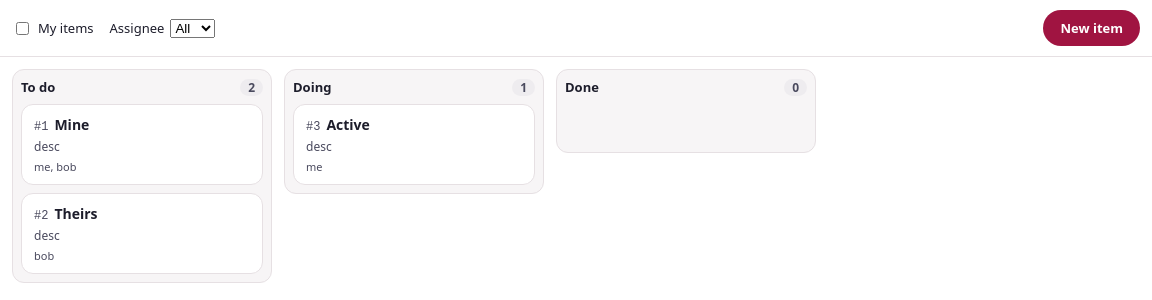
Test case: BoardView › assignee picker lists seen assignees and filters
Select "bob" in the dropdown labelled "Assignee": (193, 28) [170,18,215,38]
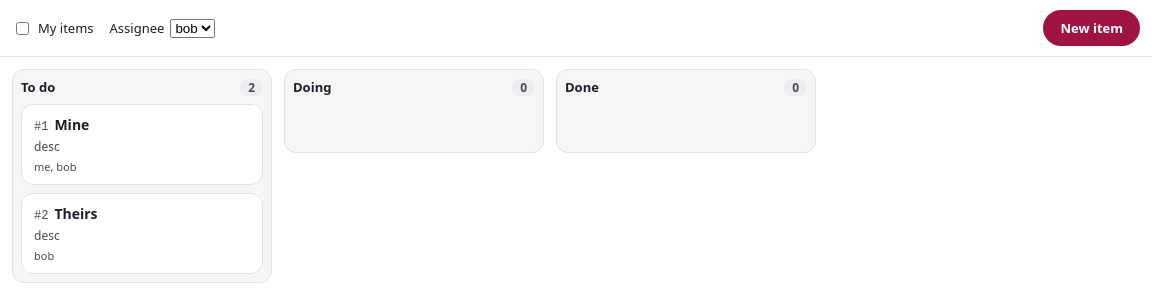
Check: the text "Theirs" is shown, box [54,204,98,223]
Check: the button "Active" is gone
